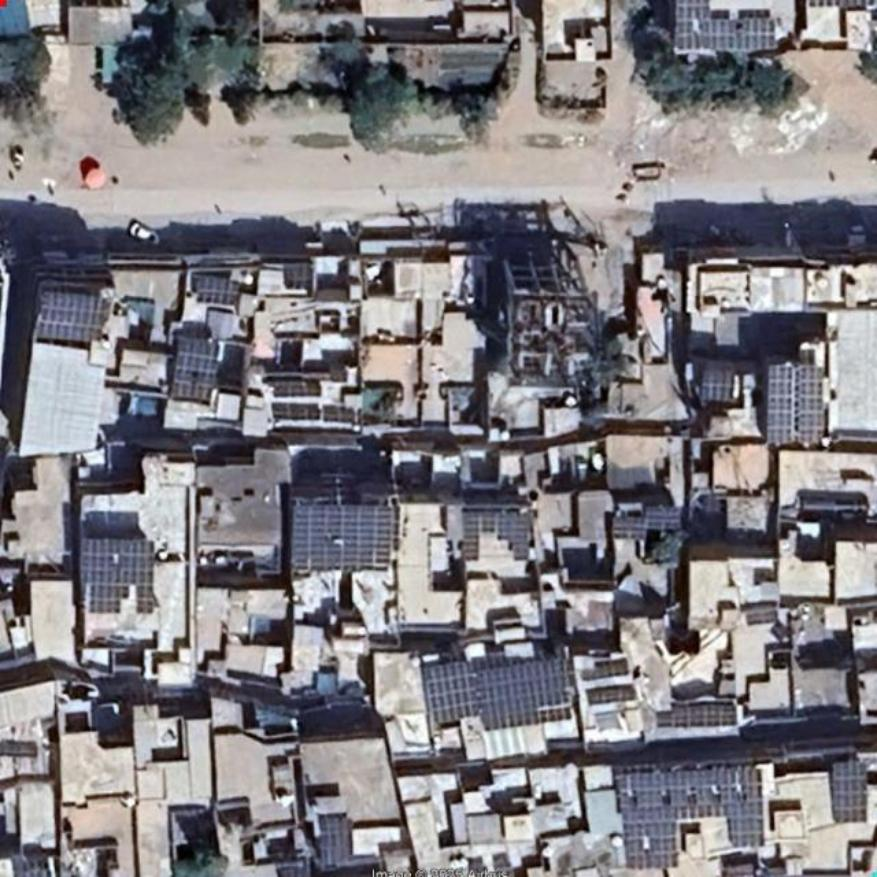Solarpanel: (425, 654, 574, 736), (623, 773, 766, 825), (293, 501, 390, 574), (87, 539, 157, 616), (765, 364, 829, 448), (676, 1, 776, 53), (30, 288, 108, 345), (177, 332, 219, 398), (829, 762, 869, 823), (654, 702, 738, 728), (620, 830, 683, 863), (320, 817, 351, 871), (499, 514, 530, 561), (197, 275, 239, 306), (703, 369, 734, 404), (731, 824, 766, 852), (462, 510, 479, 563), (648, 508, 679, 531), (614, 518, 645, 538)
